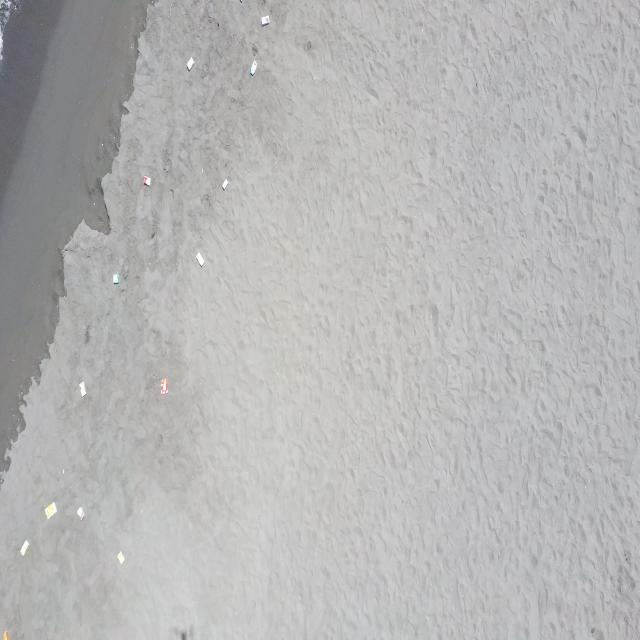Garbage: (44, 502, 55, 517), (160, 377, 167, 393), (249, 60, 256, 75), (20, 540, 27, 555), (196, 252, 203, 266), (116, 551, 123, 564), (143, 175, 150, 186), (76, 508, 83, 519), (79, 380, 84, 395), (221, 178, 227, 190), (187, 56, 192, 70), (112, 272, 118, 283), (260, 16, 268, 24), (3, 630, 8, 639), (60, 467, 63, 473)
